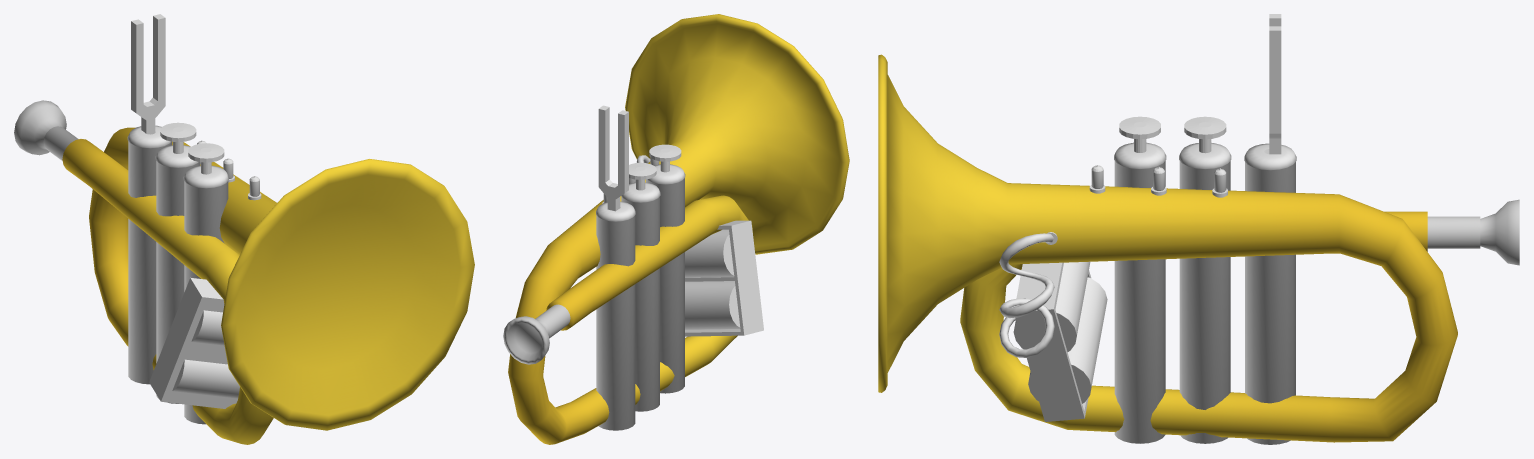
The model's file is horn2test.FBX.
3 renders of one model, left to right at view 1: azimuth 30°, elevation 25°; view 2: azimuth 150°, elevation 25°; view 3: azimuth 270°, elevation 25°, orthographic. The views are drawn at different scales.
Parts seen in each view (by area): view 1: Cylinder001, Cylinder004, Box001, Cylinder014, Cylinder015, Dummy001, Cylinder013, Cylinder011, Object004, Object003; view 2: Cylinder001, Cylinder004, Cylinder014, Cylinder015, Box001, Cylinder013, Dummy001, Cylinder011, Object004, Object003; view 3: Cylinder001, Cylinder015, Cylinder014, Cylinder004, Box001, Spring002, Cylinder013, Cylinder011, Dummy001, Object003, Object004.
Boxes of the visible parts, x1=… form: Cylinder001: x1=14, y1=100, x2=474, y2=444; Cylinder004: x1=127, y1=125, x2=172, y2=384; Box001: x1=149, y1=277, x2=237, y2=408; Cylinder014: x1=155, y1=145, x2=200, y2=403; Cylinder015: x1=183, y1=165, x2=228, y2=424; Dummy001: x1=131, y1=14, x2=165, y2=119; Cylinder013: x1=172, y1=359, x2=239, y2=398; Cylinder011: x1=191, y1=310, x2=224, y2=345; Object004: x1=188, y1=143, x2=224, y2=174; Object003: x1=160, y1=122, x2=196, y2=153; Cylinder001: x1=503, y1=14, x2=849, y2=444; Cylinder004: x1=596, y1=201, x2=635, y2=430; Cylinder014: x1=621, y1=182, x2=660, y2=411; Cylinder015: x1=646, y1=164, x2=685, y2=393; Box001: x1=685, y1=220, x2=763, y2=336; Cylinder013: x1=685, y1=281, x2=740, y2=329; Dummy001: x1=598, y1=105, x2=628, y2=199; Cylinder011: x1=685, y1=229, x2=734, y2=277; Object004: x1=649, y1=144, x2=681, y2=172; Object003: x1=629, y1=162, x2=656, y2=190; Cylinder001: x1=878, y1=54, x2=1519, y2=442; Cylinder015: x1=1114, y1=142, x2=1166, y2=443; Cylinder014: x1=1179, y1=143, x2=1231, y2=443; Cylinder004: x1=1244, y1=143, x2=1296, y2=444; Box001: x1=1015, y1=262, x2=1091, y2=421; Spring002: x1=999, y1=233, x2=1054, y2=357; Cylinder013: x1=1028, y1=277, x2=1107, y2=403; Cylinder011: x1=1013, y1=261, x2=1090, y2=351; Dummy001: x1=1269, y1=14, x2=1281, y2=138; Object003: x1=1184, y1=116, x2=1226, y2=153; Object004: x1=1119, y1=116, x2=1160, y2=152.
Size of the model in its own units: 22.69 by 30.35 by 42.83.
Materials: 2 (2 with a texture image).
